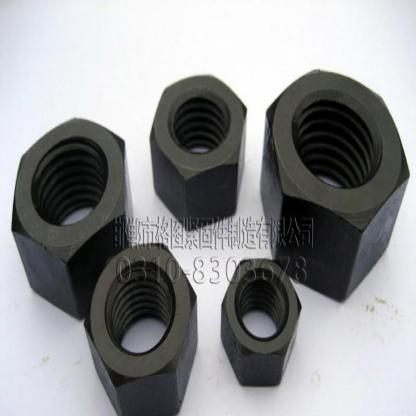FOD: (259, 70, 410, 302), (10, 117, 134, 322), (82, 240, 199, 416), (150, 73, 250, 232), (219, 255, 302, 388)
